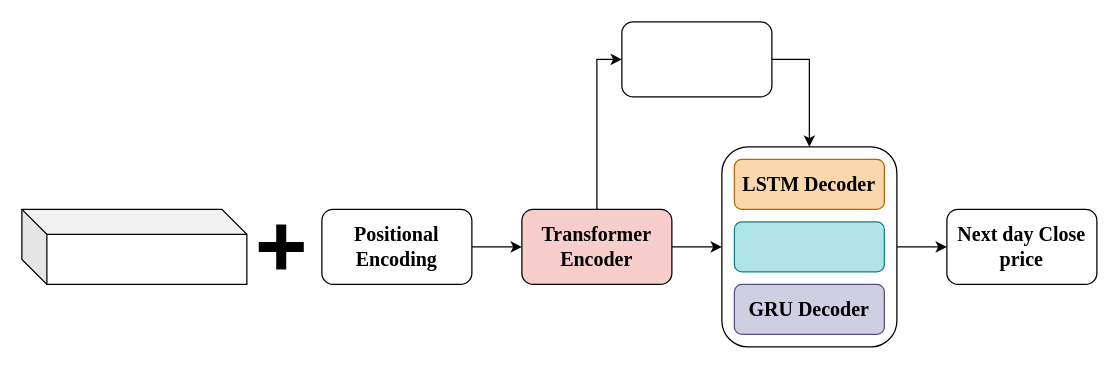
Some shapes in this 1119 by 369 pixel diagram are drawn without their labels. Each missing label, with the centre of its shape:
"BiLSTM Decoder" belongs at point (808, 246).
"Initialize c0/h0" belongs at point (696, 59).
"Input Embedding" belongs at point (134, 246).
